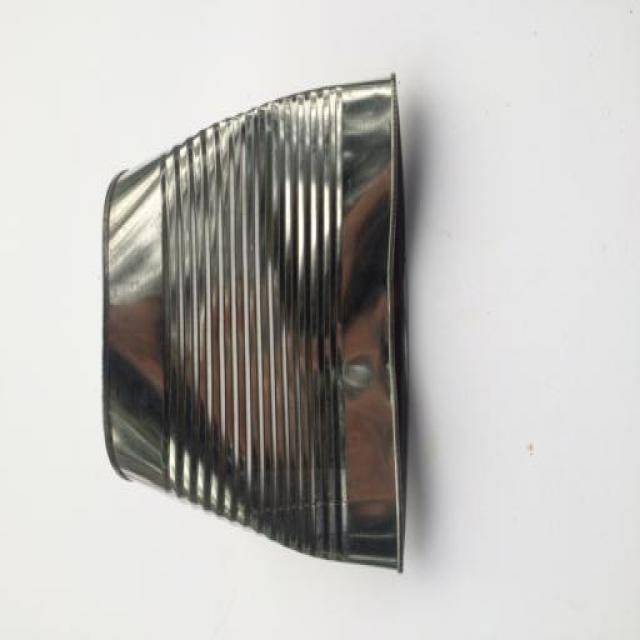metel: (89, 62, 435, 628)
